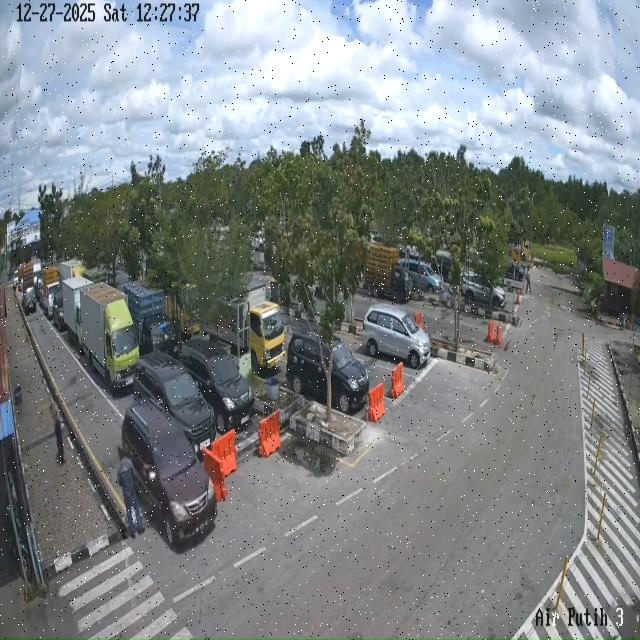Golongan IVA: (120, 399, 217, 546), (133, 351, 215, 456), (180, 338, 254, 434), (286, 329, 370, 413), (362, 304, 430, 369), (462, 273, 506, 308), (400, 258, 443, 293)
Golongan IVB: (122, 281, 178, 358), (364, 243, 413, 303), (41, 266, 60, 318)
Golongan VB: (202, 283, 286, 373), (80, 282, 139, 388), (62, 276, 94, 345)
